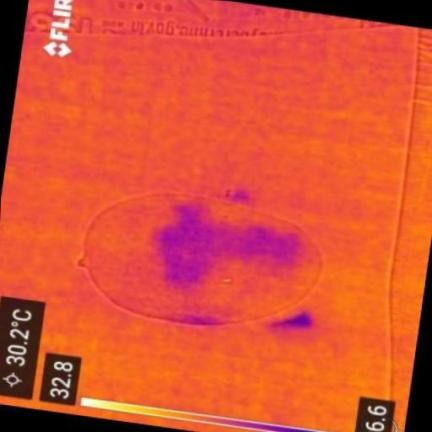mango: (79, 194, 321, 324)
